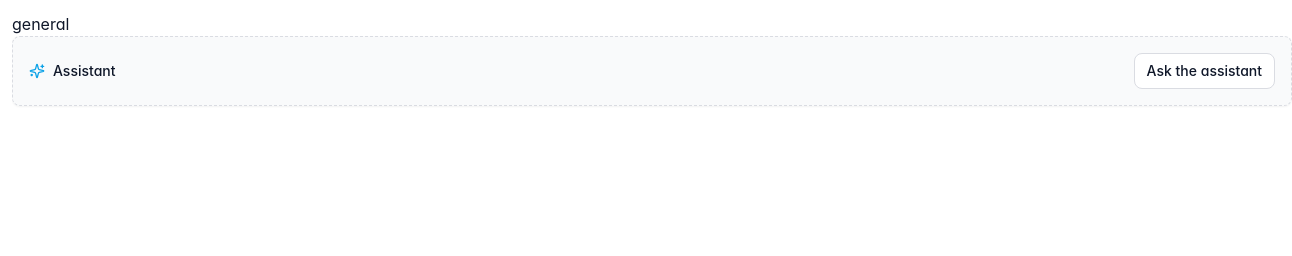
Test: AscAssistantPanel — Step 1 (Slice 3) › schema-invalid response surfaces recoverable error and does not mutate draft
Click the button with test id "asc-assistant-ask-1" at x=1204, y=71, box [1134, 53, 1275, 89]
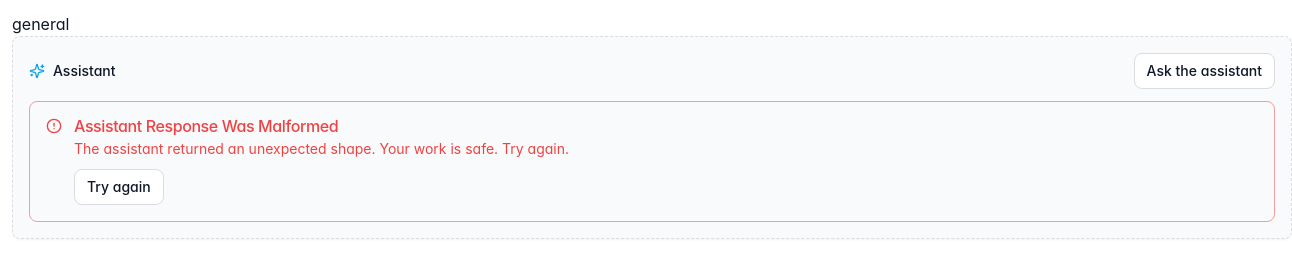
Expected: the text with test id "industry-value" reads "general", [12, 14, 69, 34]
Expected: the element with test id "asc-assistant-error-1" is shown, [29, 101, 1275, 222]
Click the button with test id "asc-assistant-retry-1" at x=119, y=187, box [74, 169, 164, 205]
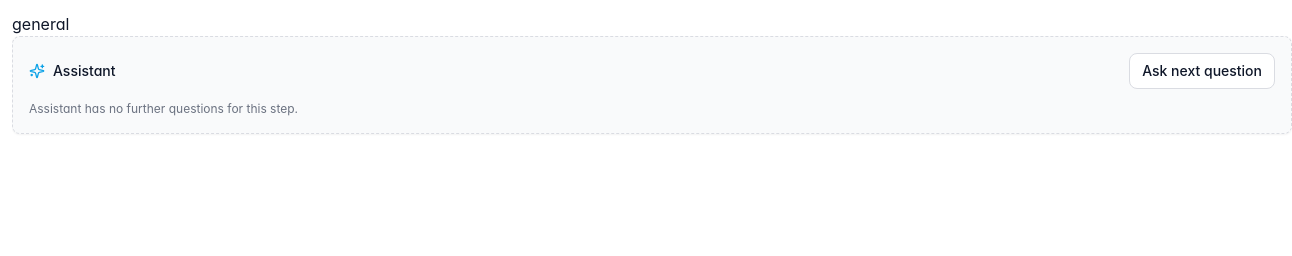
Expected: the element with test id "asc-assistant-error-1" is gone
